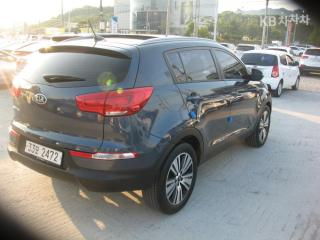2: (53, 150, 59, 163), (41, 147, 46, 158)
3: (27, 142, 32, 153), (31, 144, 36, 154)
4: (45, 148, 50, 161)
7: (48, 150, 54, 161)
보: (35, 144, 41, 156)
